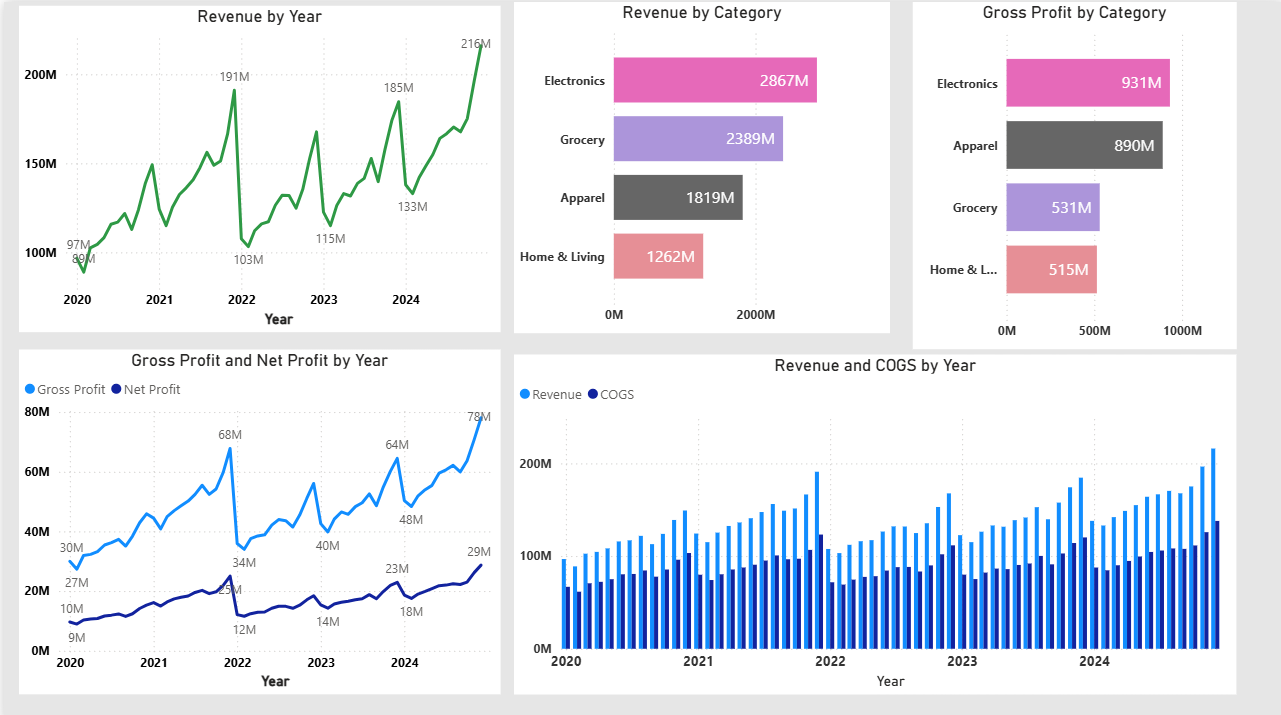

The dashboard page shown, as its layout file describes it:
{"tool":"powerbi","page":{"name":"Sales & Profit Analysis","canvas":[1280,720],"ordinal":1},"visuals":[{"type":"lineChart","title":"Revenue by Year","fields":{"Category":["DateTable.YearMonth"],"Y":["_Measures.01 Total Revenue"]},"box":[15,3.8,481.2,326.2],"z":0},{"type":"lineChart","fields":{"Category":["DateTable.YearMonth"],"Y":["Sum(FinancialData.Gross Profit)","Sum(FinancialData.Net Profit)"]},"box":[15,347.5,481.2,345],"z":1000},{"type":"clusteredBarChart","title":"Revenue by Category","fields":{"Category":["FinancialData.Category"],"Y":["Sum(FinancialData.Revenue)"]},"box":[510,0,376.2,331.2],"z":2000},{"type":"barChart","title":"Gross Profit by Category","fields":{"Category":["FinancialData.Category"],"Y":["Sum(FinancialData.Gross Profit)"]},"box":[908.8,0,323.8,347.5],"z":3000},{"type":"lineClusteredColumnComboChart","fields":{"Category":["DateTable.YearMonth"],"Y":["Sum(FinancialData.Revenue)","Sum(FinancialData.COGS)"]},"box":[510,352.5,722.5,340],"z":4000}]}

Visuals, with their boxes in screenshot pixels (x1, y1, x2, y2), scaled from the page's 1280x720 canvas onto the 1281x715 screenshot:
"Revenue by Year" lineChart: 15 4 497 328
lineChart - DateTable.YearMonth x Sum(FinancialData.Gross Profit): 15 345 497 688
"Revenue by Category" clusteredBarChart: 510 0 887 329
"Gross Profit by Category" barChart: 910 0 1234 345
lineClusteredColumnComboChart - DateTable.YearMonth x Sum(FinancialData.Revenue): 510 350 1233 688
